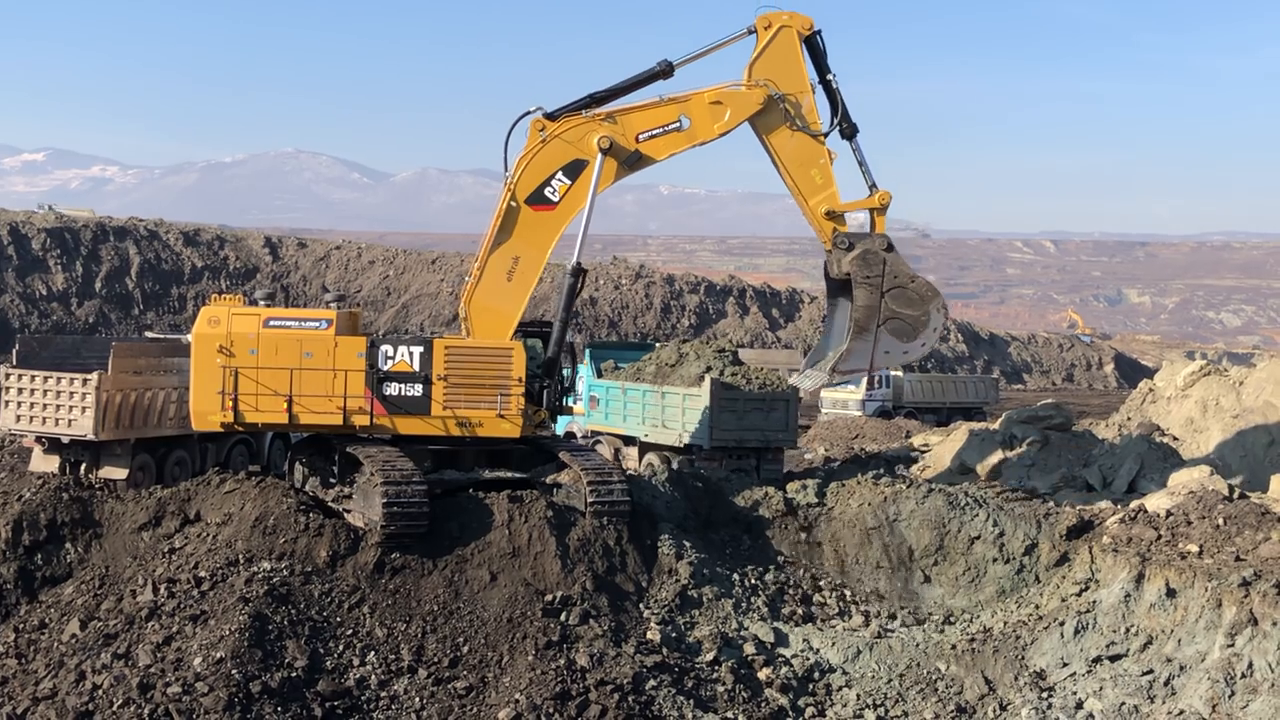empty: (783, 227, 950, 393)
